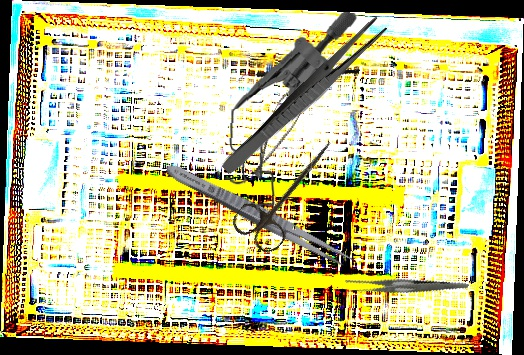Chopper: (235, 33, 361, 119)
Dressing Forceps: (219, 14, 390, 181), (162, 159, 357, 272), (341, 247, 470, 328)
Iris Scissors: (228, 124, 349, 258)
Micro Scissor: (244, 75, 314, 184)
Speculum: (219, 4, 360, 218)
